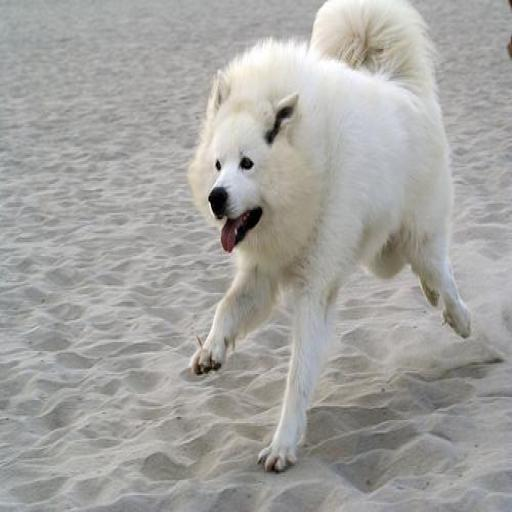dog_face: (192, 70, 298, 253)
